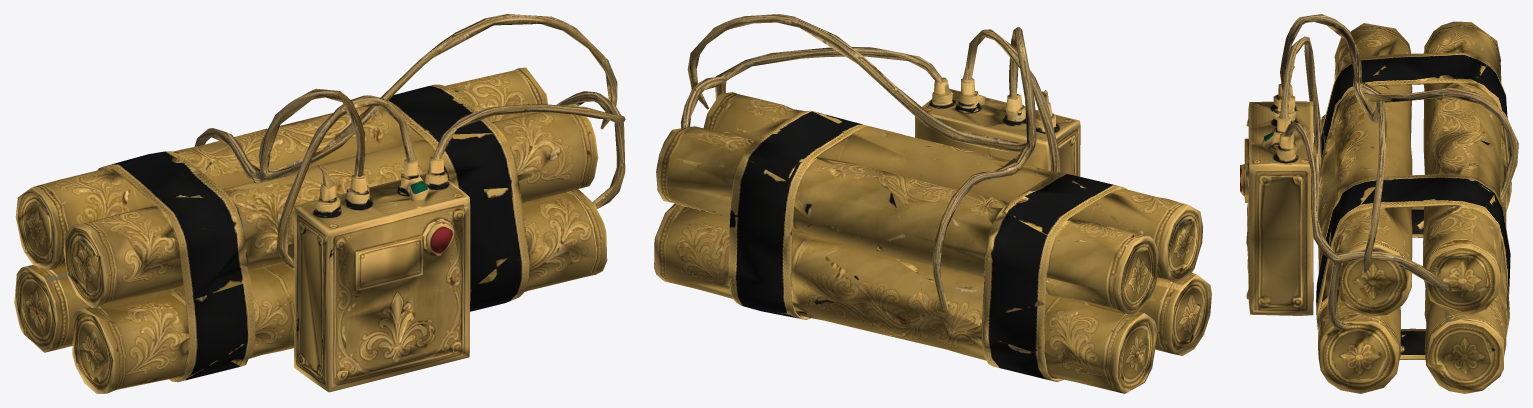
3 views of the same model, side by side, from view 1: azimuth 30°, elevation 25°; view 2: azimuth 150°, elevation 25°; view 3: azimuth 270°, elevation 25° (orthographic). The views are drawn at different scales.
Size of the model in its own units: 1.9 by 0.9478 by 0.9312.
Materials: 1 (1 with a texture image).
